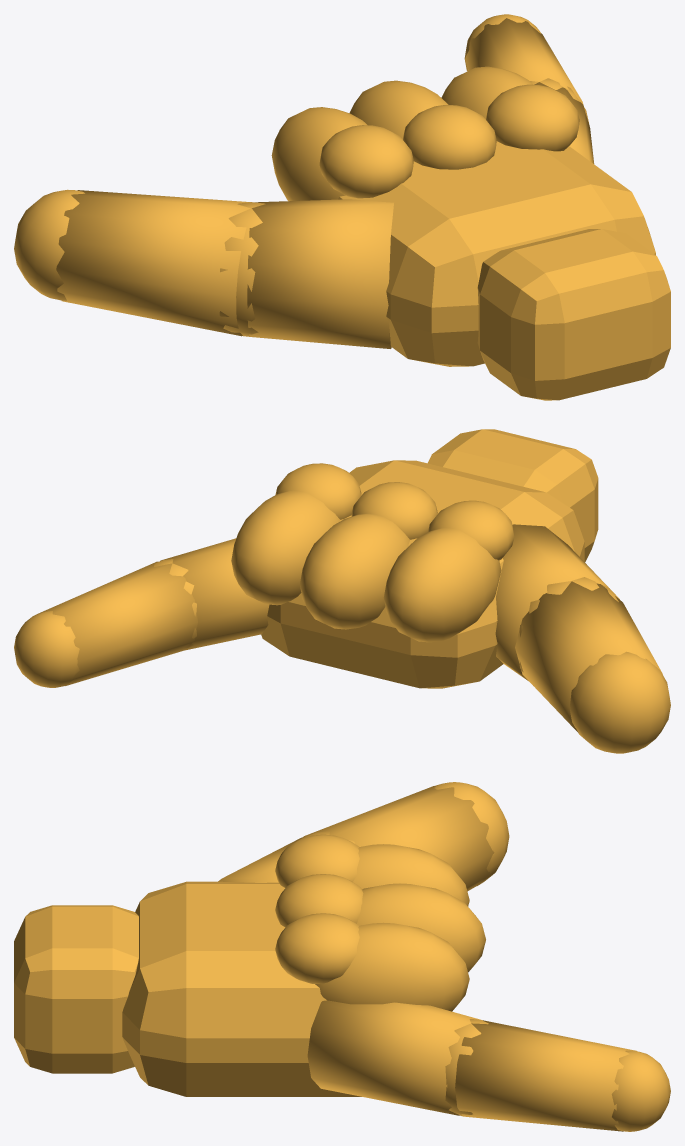
The model's file is shaka.glb.
3 renders of one model, top to bottom at view 1: azimuth 30°, elevation 25°; view 2: azimuth 150°, elevation 25°; view 3: azimuth 270°, elevation 25°, orthographic. The views are drawn at different scales.
Visible parts, largest first — view 1: shaka; view 2: shaka; view 3: shaka.
Boxes of the visible parts, x1,y1,x2,y2 form: shaka: (14, 14, 670, 400); shaka: (14, 429, 670, 753); shaka: (14, 782, 670, 1131).
Bounding box in the file's own units: 1.25 × 0.3666 × 1.2.
